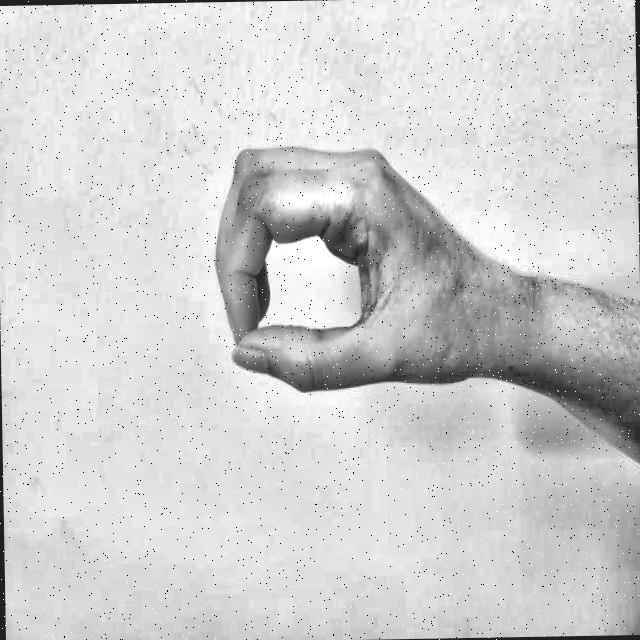O: (192, 113, 492, 448)
